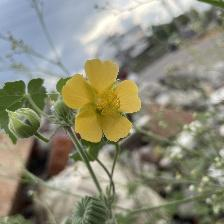indian mallow: (63, 58, 144, 144)
